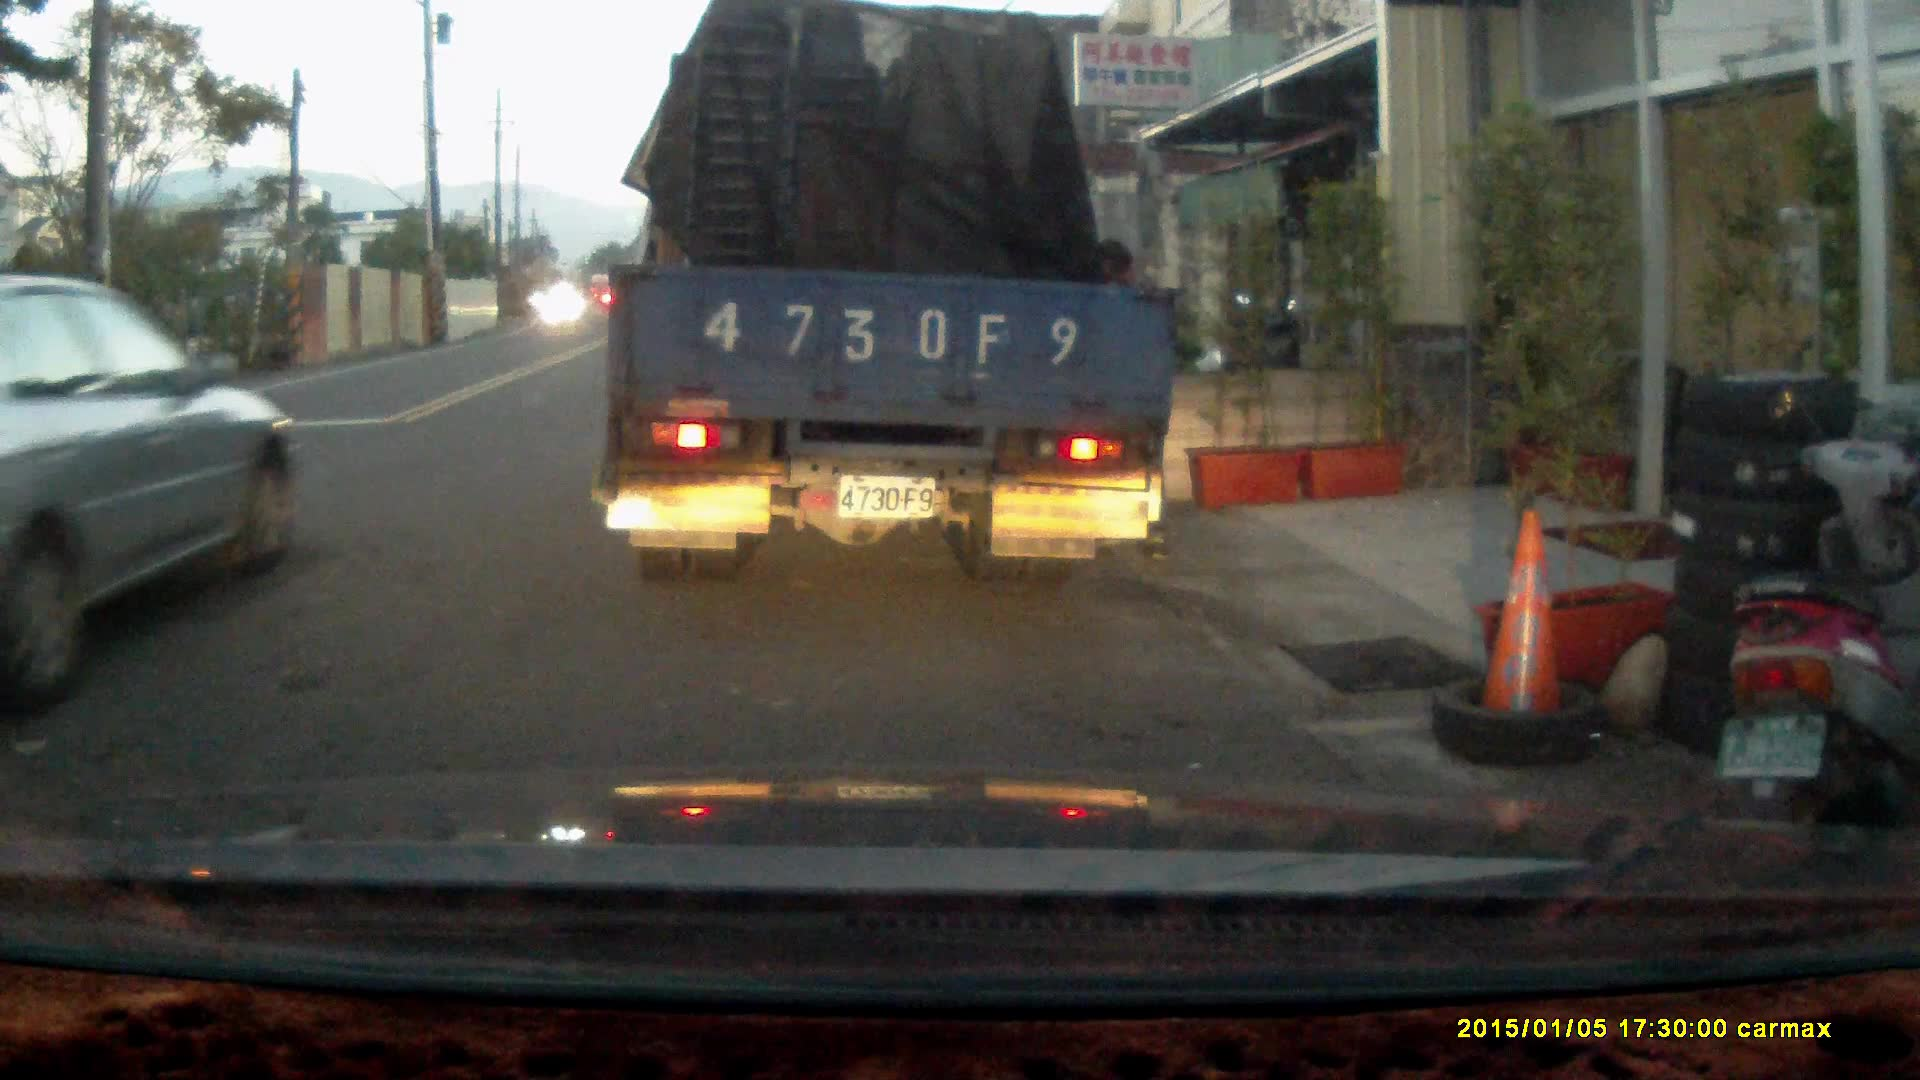vehicle: (605, 22, 1188, 572), (1, 266, 309, 712)
